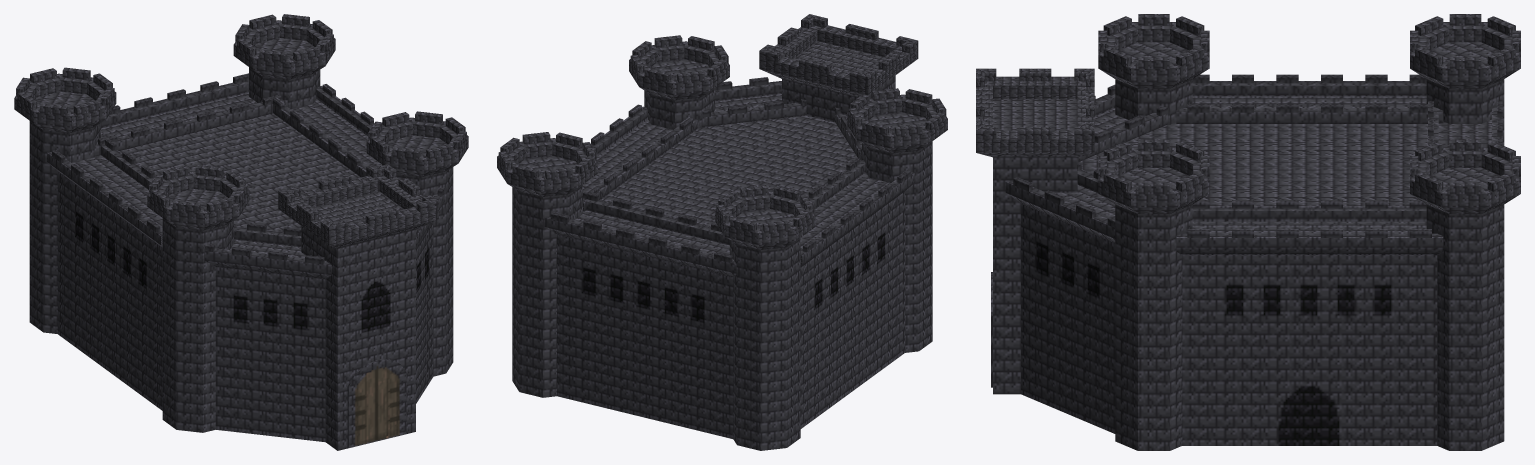
File: Castle.fbx
3 views of the same model, side by side, from view 1: azimuth 30°, elevation 25°; view 2: azimuth 150°, elevation 25°; view 3: azimuth 270°, elevation 25° (orthographic). The views are drawn at different scales.
Visible parts, largest first — view 1: CastlePerimeters, CastleTowers, CastleFront, CastleRoof; view 2: CastlePerimeters, CastleTowers, CastleRoof, CastleFront; view 3: CastlePerimeters, CastleTowers, CastleFront, CastleRoof.
Part boxes in pixels (bbox=[...]): CastlePerimeters: bbox=[47, 73, 444, 442]; CastleTowers: bbox=[14, 14, 468, 432]; CastleFront: bbox=[278, 164, 438, 450]; CastleRoof: bbox=[119, 113, 360, 231]; CastlePerimeters: bbox=[544, 77, 915, 438]; CastleTowers: bbox=[497, 35, 947, 450]; CastleRoof: bbox=[601, 115, 857, 227]; CastleFront: bbox=[759, 14, 918, 122]; CastlePerimeters: bbox=[1005, 74, 1502, 445]; CastleTowers: bbox=[1098, 14, 1520, 450]; CastleFront: bbox=[976, 68, 1094, 394]; CastleRoof: bbox=[1079, 122, 1427, 206].
Size of the model in its own units: 27.49 by 20.22 by 36.74.
